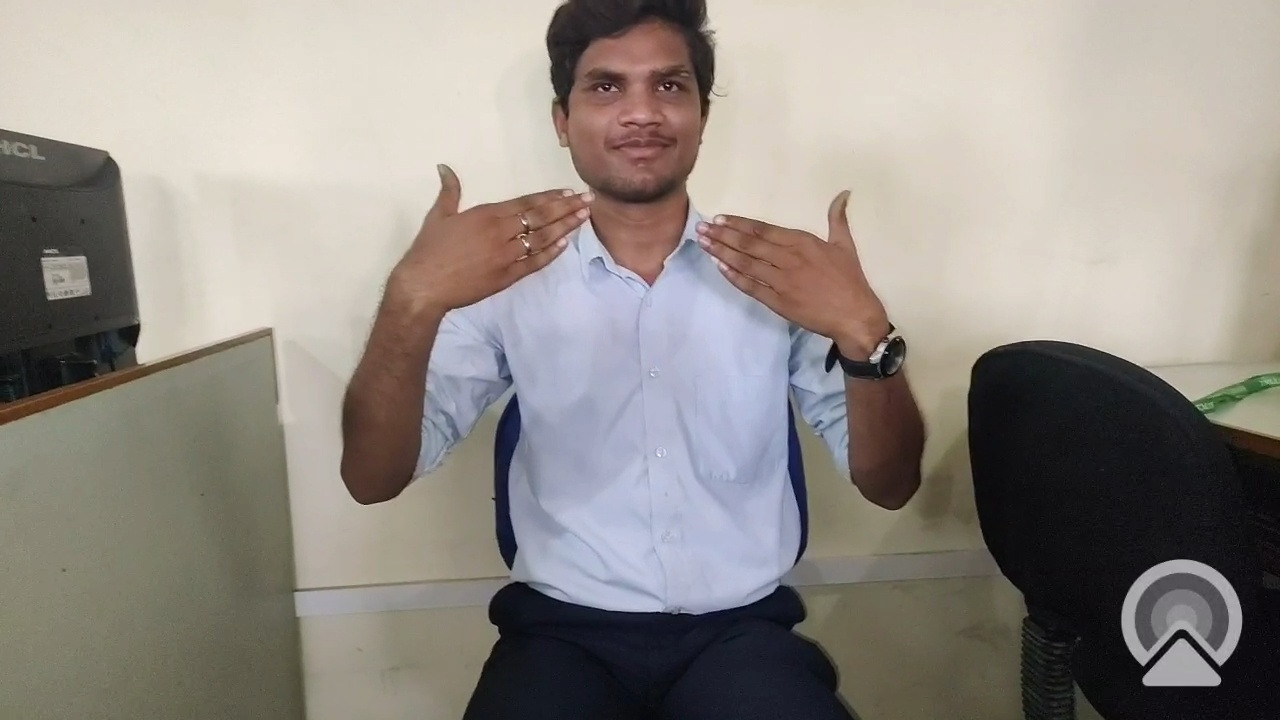Thank you: (372, 139, 936, 483)
